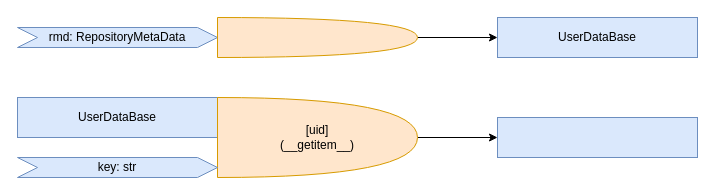
This 715x195 diagram has some shape labels left out. Each missing label, with the centre of its shape:
"UserDataBase() (__init__)" goes at [317,37].
"username: str" goes at [597,137].
